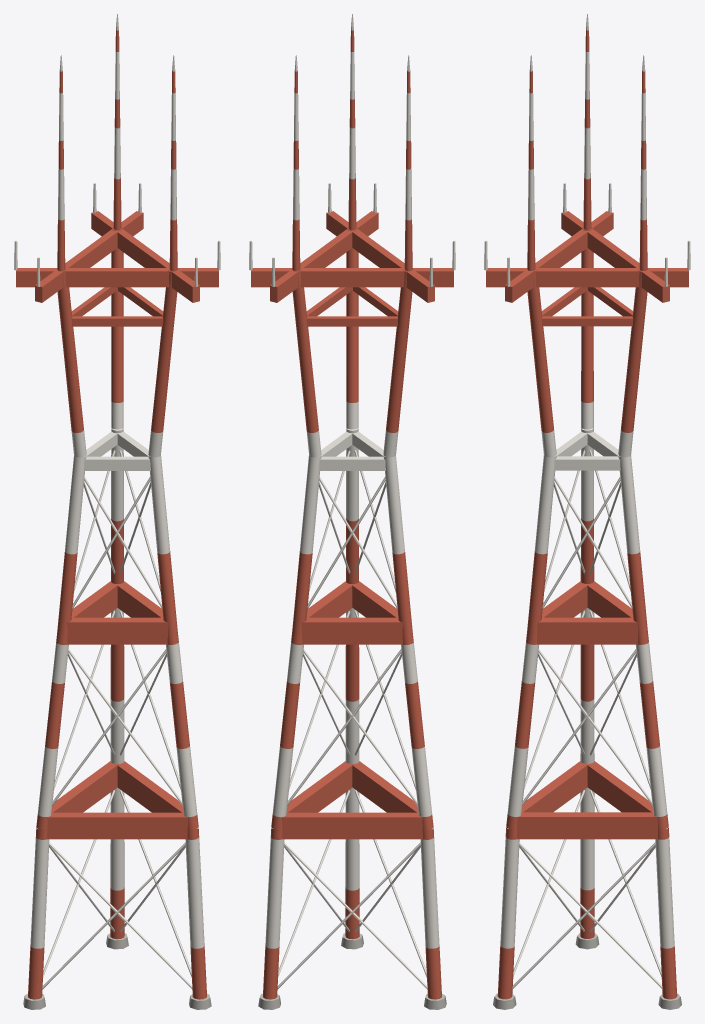
Rendered from sf-sutro-tower.glb.
3 renders of one model, left to right at view 1: azimuth 30°, elevation 25°; view 2: azimuth 150°, elevation 25°; view 3: azimuth 270°, elevation 25°, orthographic.
Visible parts, largest first — view 1: Sutro Tower; view 2: Sutro Tower; view 3: Sutro Tower.
Part boxes in pixels (x1=…): Sutro Tower: x1=14, y1=14, x2=220, y2=1009; Sutro Tower: x1=249, y1=14, x2=455, y2=1009; Sutro Tower: x1=484, y1=14, x2=690, y2=1009.
Bounding box in the file's own units: 51.96 × 298 × 59.22.
